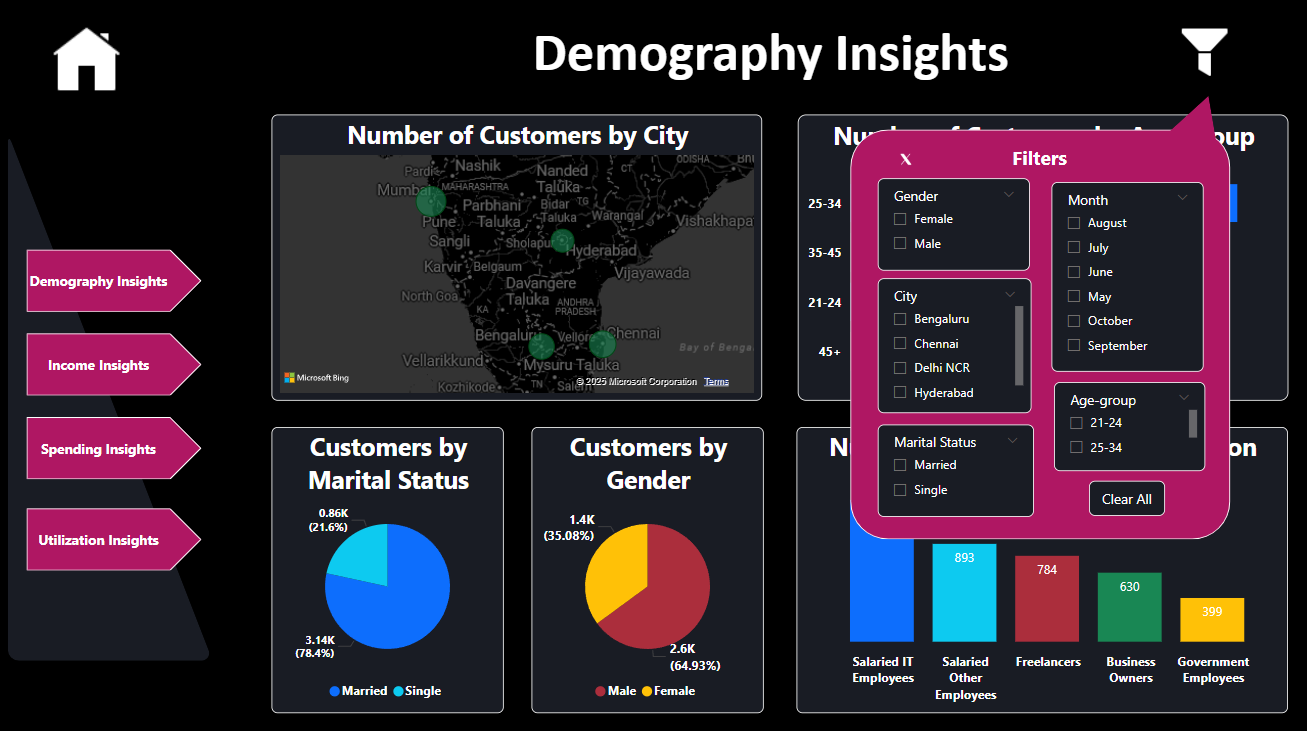

The dashboard page shown, as its layout file describes it:
{"tool":"powerbi","page":{"name":"Demography Insights","canvas":[1280,720],"ordinal":1},"visuals":[{"type":"barChart","title":"Number of Customers by Age-group","fields":{"Category":["dim_customers.age_group"],"Y":["Count(dim_customers.customer_id)"]},"box":[780.8,114.3,480,280.3],"z":0},{"type":"shape","box":[8.6,132.1,200.5,517.3],"z":0,"group":"g1"},{"type":"map","title":"Number of Customers by City","fields":{"Size":["Count(dim_customers.customer_id)"],"Category":["dim_customers.city"]},"box":[266.6,114.9,480,280],"z":1000},{"type":"shape","box":[26.9,500.2,171.2,61.1],"z":1000,"group":"g1"},{"type":"shape","box":[26.9,410.9,171.2,61.1],"z":2000,"group":"g1"},{"type":"columnChart","title":"Number of Customers by Occupation","fields":{"Category":["dim_customers.occupation"],"Y":["CountNonNull(dim_customers.customer_id)"]},"box":[780.2,420.7,480.6,280],"z":2000},{"type":"shape","box":[26.9,329,171.2,61.1],"z":3000,"group":"g1"},{"type":"pieChart","title":"Customers by Marital Status","fields":{"Y":["Count(dim_customers.customer_id)"],"Category":["dim_customers.marital status"]},"box":[266.6,420.7,227,280],"z":3000},{"type":"shape","box":[26.9,247,171.2,61.1],"z":4000,"group":"g1"},{"type":"pieChart","title":"Customers by Gender","fields":{"Y":["Count(dim_customers.customer_id)"],"Category":["dim_customers.gender"]},"box":[520.9,420.7,227,280],"z":4000},{"type":"shape","box":[520.9,14.7,468.3,77],"z":5000},{"type":"image","box":[47.7,23.2,75.8,77],"z":6000},{"type":"image","box":[1149.5,23.2,59.9,61.1],"z":7000},{"type":"group","id":"g1","title":"Nav Panel","box":[8.6,132.1,200.5,517.3],"z":9000}]}

Visuals, with their boxes in screenshot pixels (x1, y1, x2, y2), scaled from the page's 1280x720 canvas onto the 1307x731 screenshot:
"Number of Customers by Age-group" barChart: (x1=797, y1=116, x2=1287, y2=401)
shape: (x1=9, y1=134, x2=214, y2=659)
"Number of Customers by City" map: (x1=272, y1=117, x2=762, y2=401)
shape: (x1=27, y1=508, x2=202, y2=570)
shape: (x1=27, y1=417, x2=202, y2=479)
"Number of Customers by Occupation" columnChart: (x1=797, y1=427, x2=1287, y2=711)
shape: (x1=27, y1=334, x2=202, y2=396)
"Customers by Marital Status" pieChart: (x1=272, y1=427, x2=504, y2=711)
shape: (x1=27, y1=251, x2=202, y2=313)
"Customers by Gender" pieChart: (x1=532, y1=427, x2=764, y2=711)
shape: (x1=532, y1=15, x2=1010, y2=93)
image: (x1=49, y1=24, x2=126, y2=102)
image: (x1=1174, y1=24, x2=1235, y2=86)
"Nav Panel" group: (x1=9, y1=134, x2=214, y2=659)
